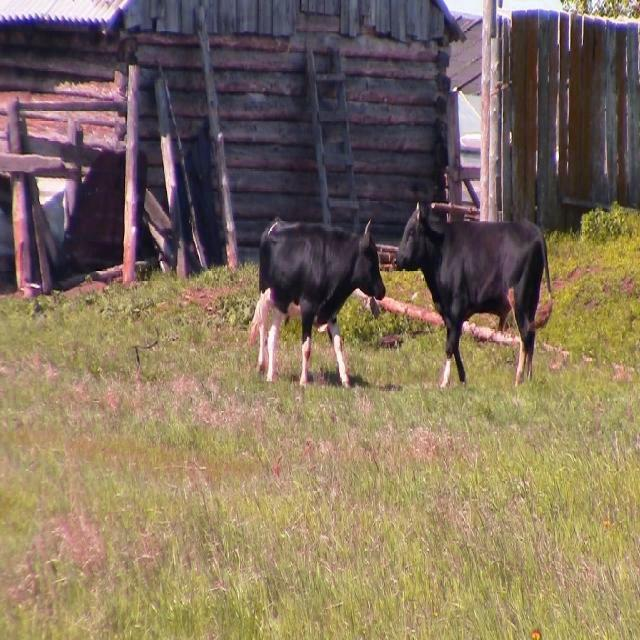cow: (396, 205, 550, 387), (251, 221, 385, 387)
